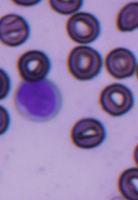L: (15, 78, 62, 122)
